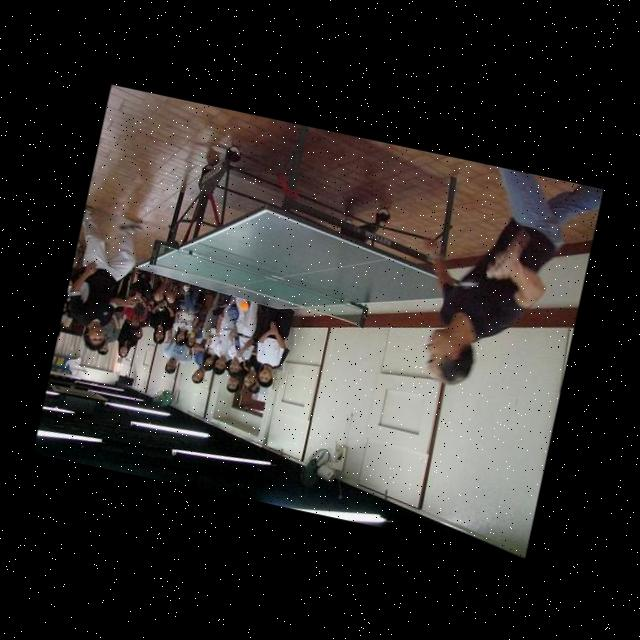ping-pong-ball: (238, 300, 249, 311)
